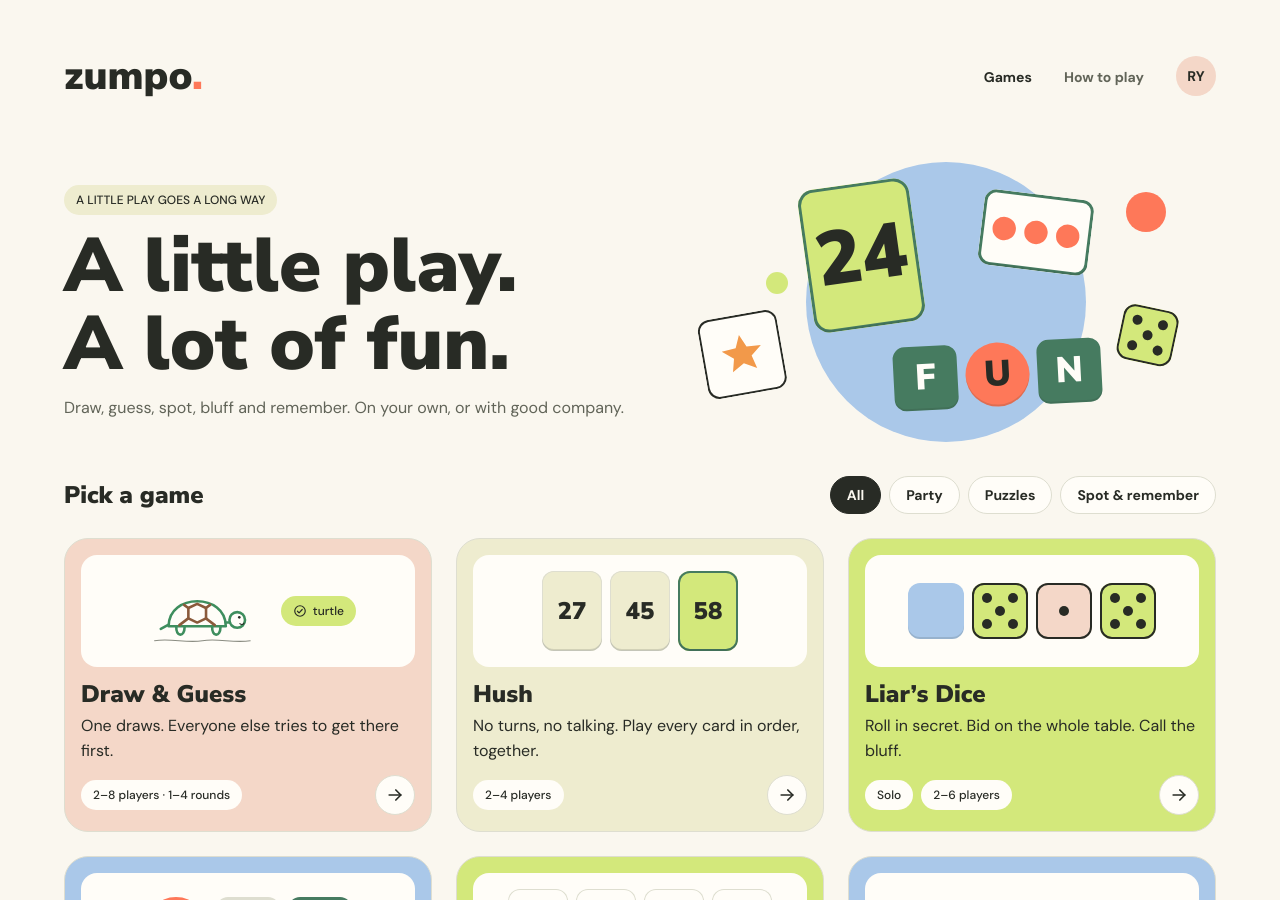
Test: a name › rolls another random name to save
The width and height of the screenshot is (1280, 900).
Click the button with aria-label ": your name" at (1196, 76), box [1176,56,1216,96]
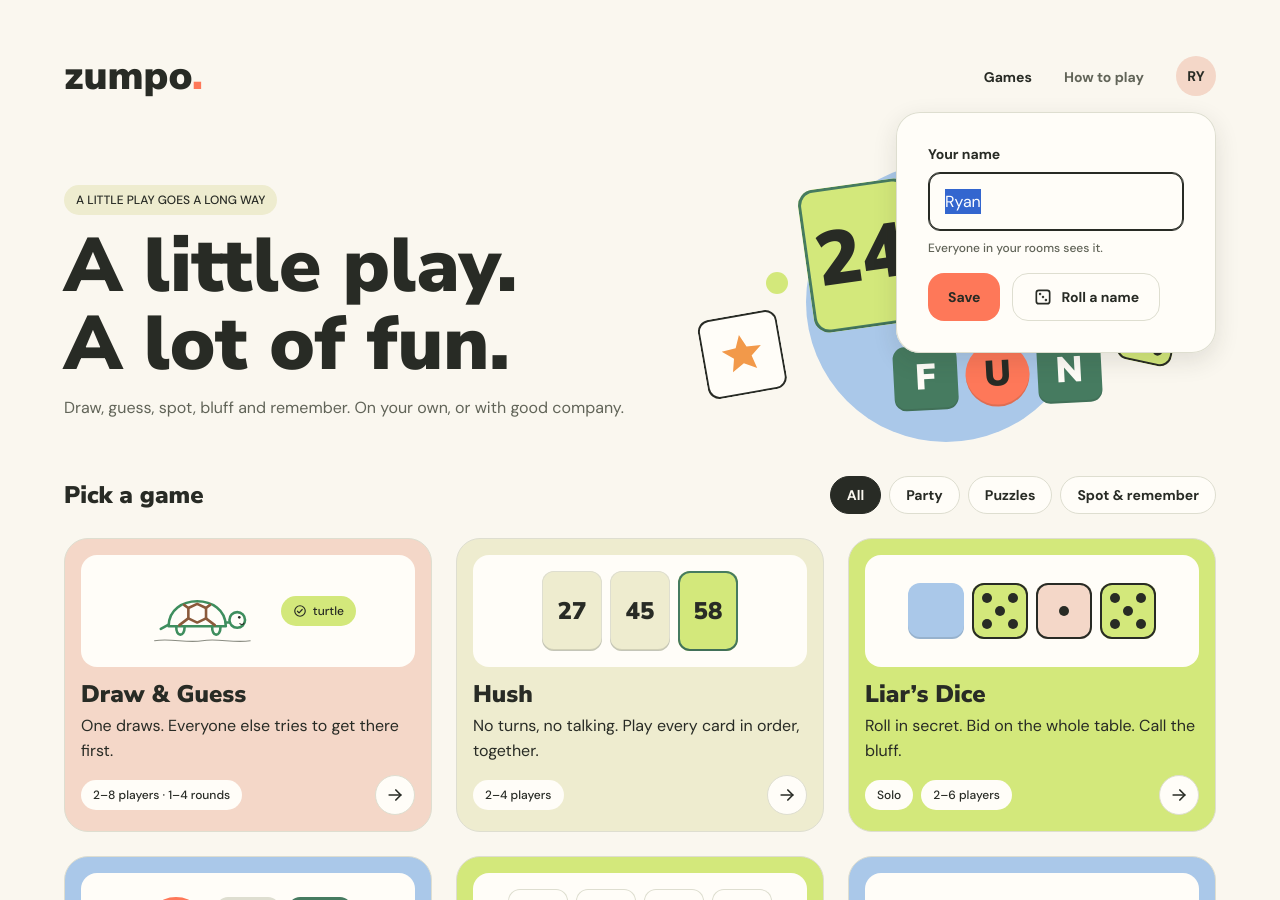
Click the button "Roll a name" at (1086, 297), box [1012,273,1160,321]
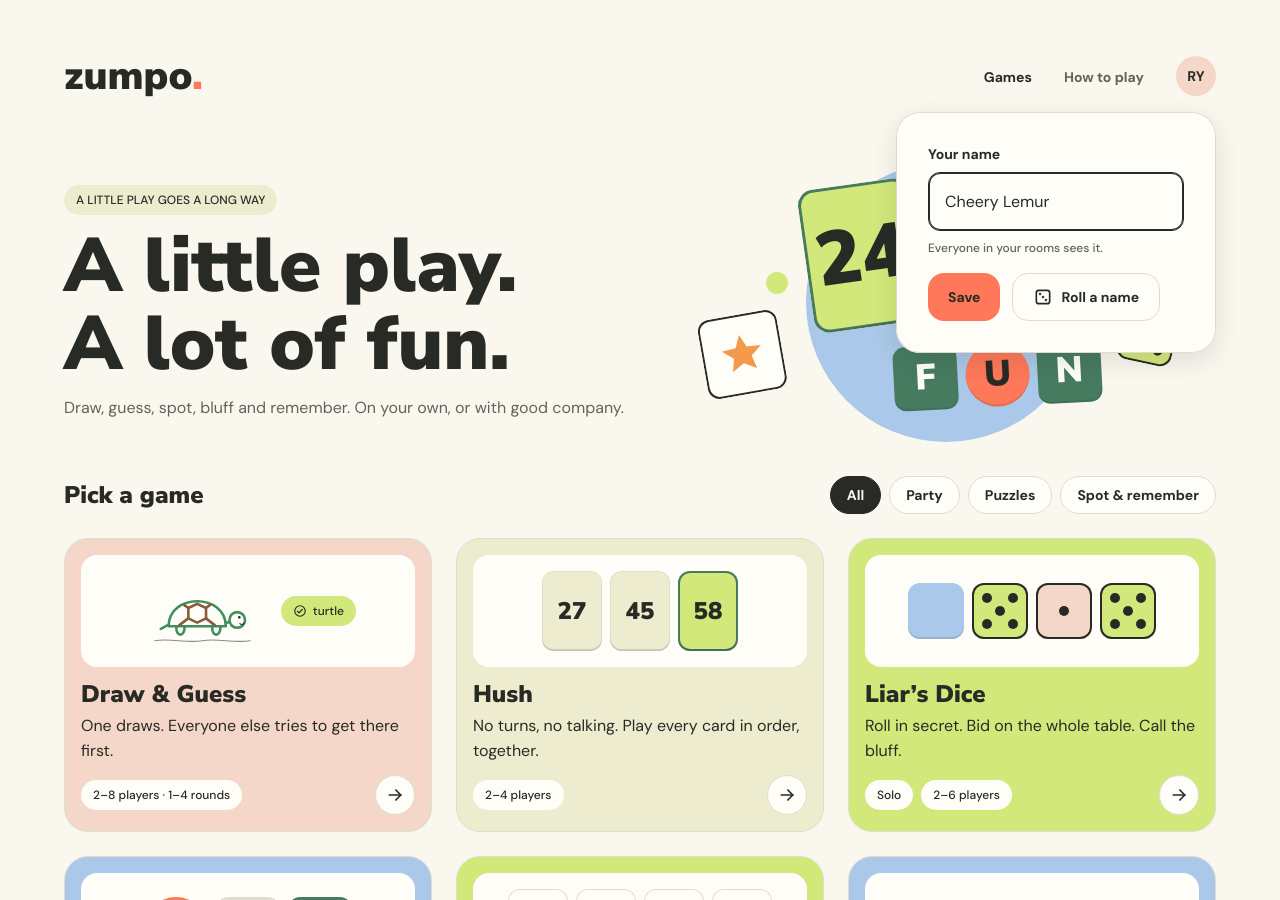
Now the field labelled "Your name" does not hold "Ryan", box [928,172,1184,231]
